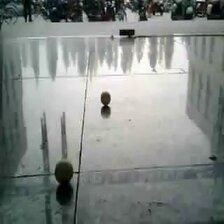w: (55, 160, 74, 186), (100, 91, 111, 105)
